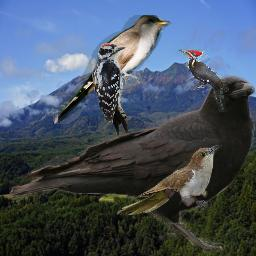Crow: (9, 75, 255, 253)
Cuckoo: (53, 15, 172, 124), (116, 144, 222, 215)
Woodpecker: (91, 43, 128, 136), (178, 49, 229, 112)
